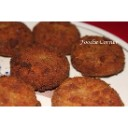cutlet: (10, 46, 67, 90), (52, 79, 126, 108), (74, 37, 121, 75), (1, 74, 41, 107), (35, 22, 81, 50), (1, 21, 33, 58)
